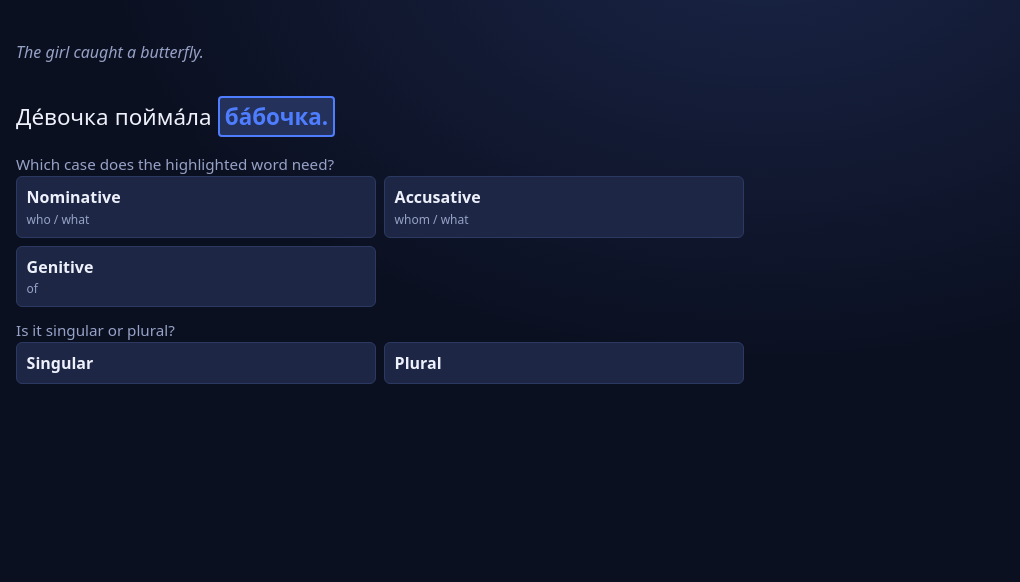
PhraseFixExercise › reveals what was typed against the correct form when the spelling is wrong
Click the button with class "case-btn" showing "Accusative whom / what" at (438, 197), box [384,176,744,238]
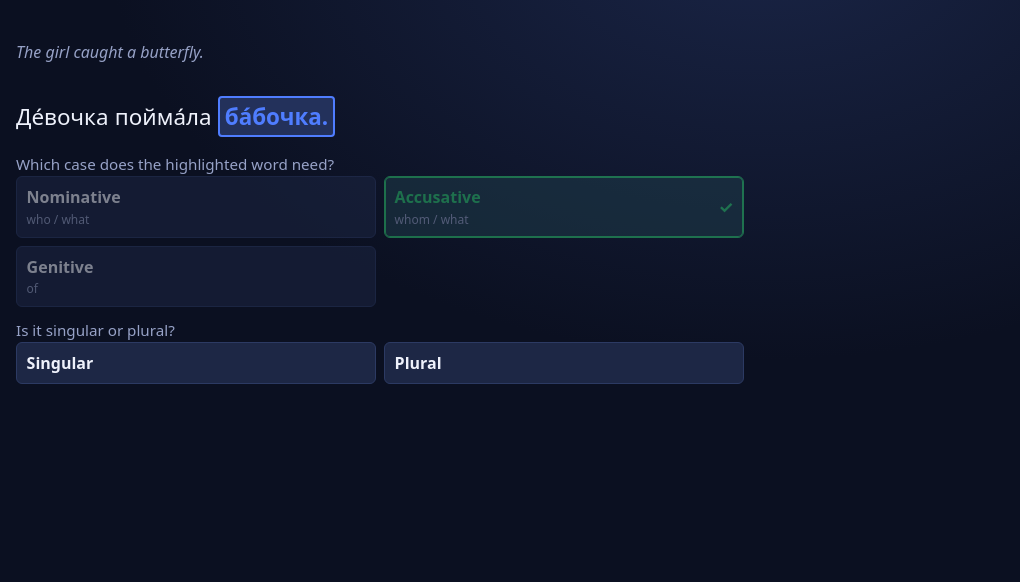
Click the button with class "case-btn" showing "Singular" at (60, 363), box [16,342,376,384]
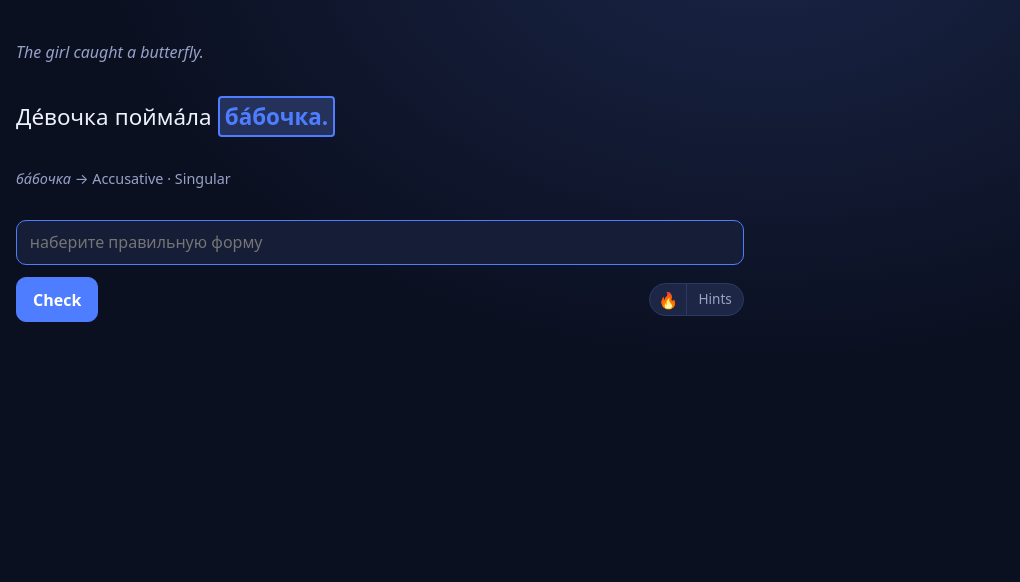
Type "бабочко" into the field with placeholder "наберите правильную форму" at (380, 242), box [16,220,744,265]
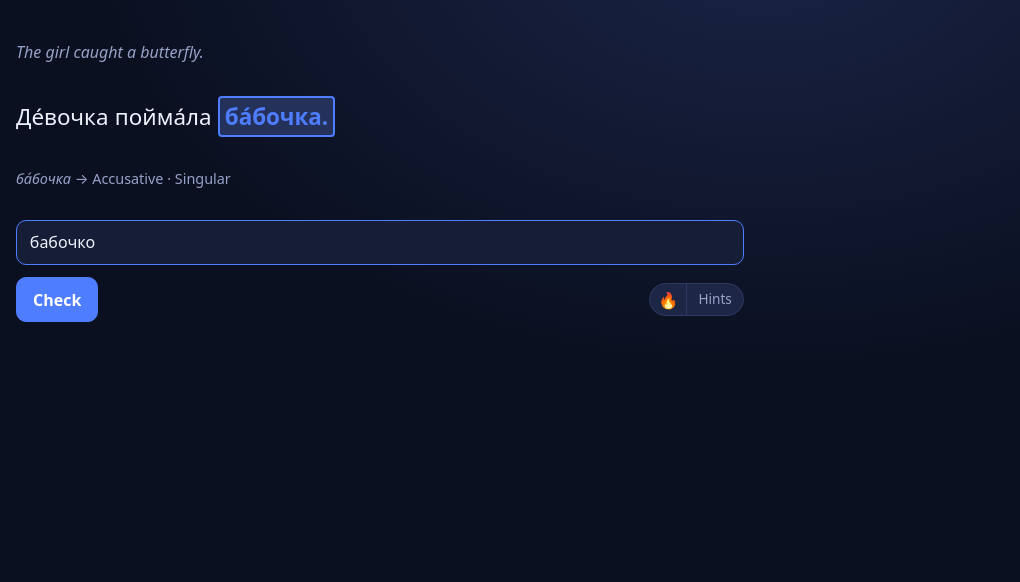
Submit the form, box [16,220,744,322]
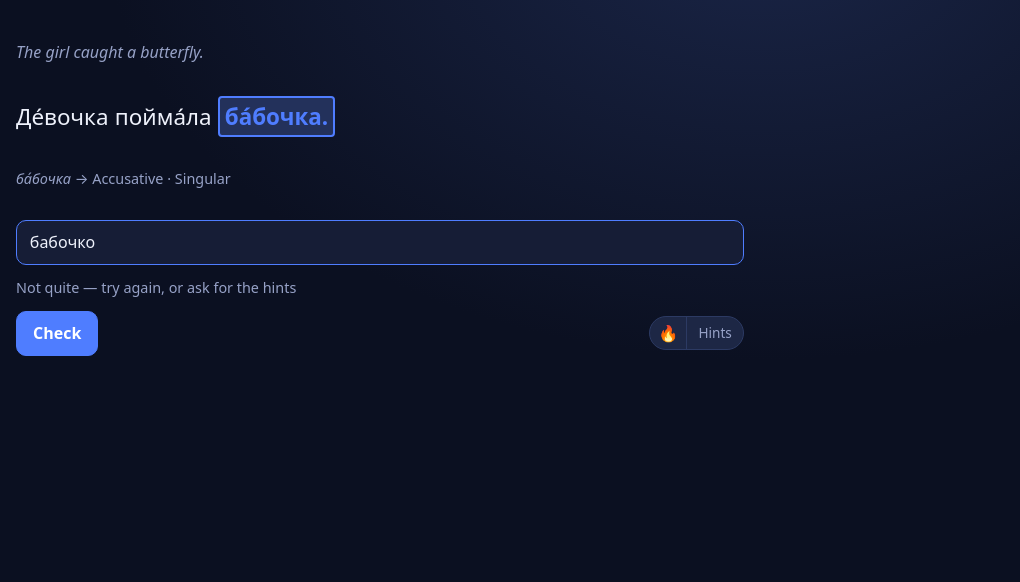
Submit the form, box [16,220,744,356]
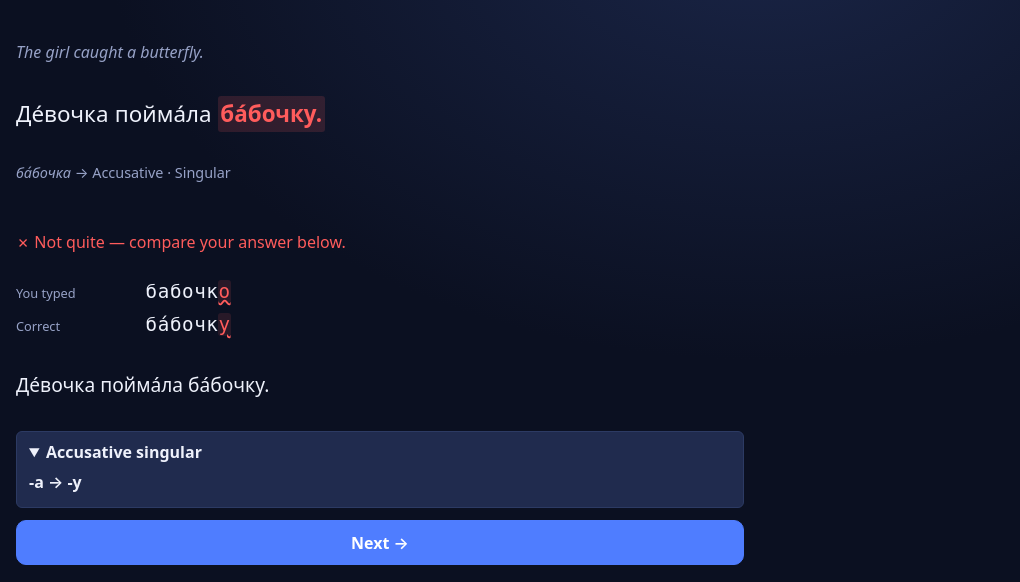
Check: the element with class "spell-diff" shows "бабочко", box [16,280,231,336]
Check: the element with class "spell-diff" shows "ба́бочку", box [16,280,231,336]
Check: the 1st text with class "off" is shown, box [218,280,230,303]
